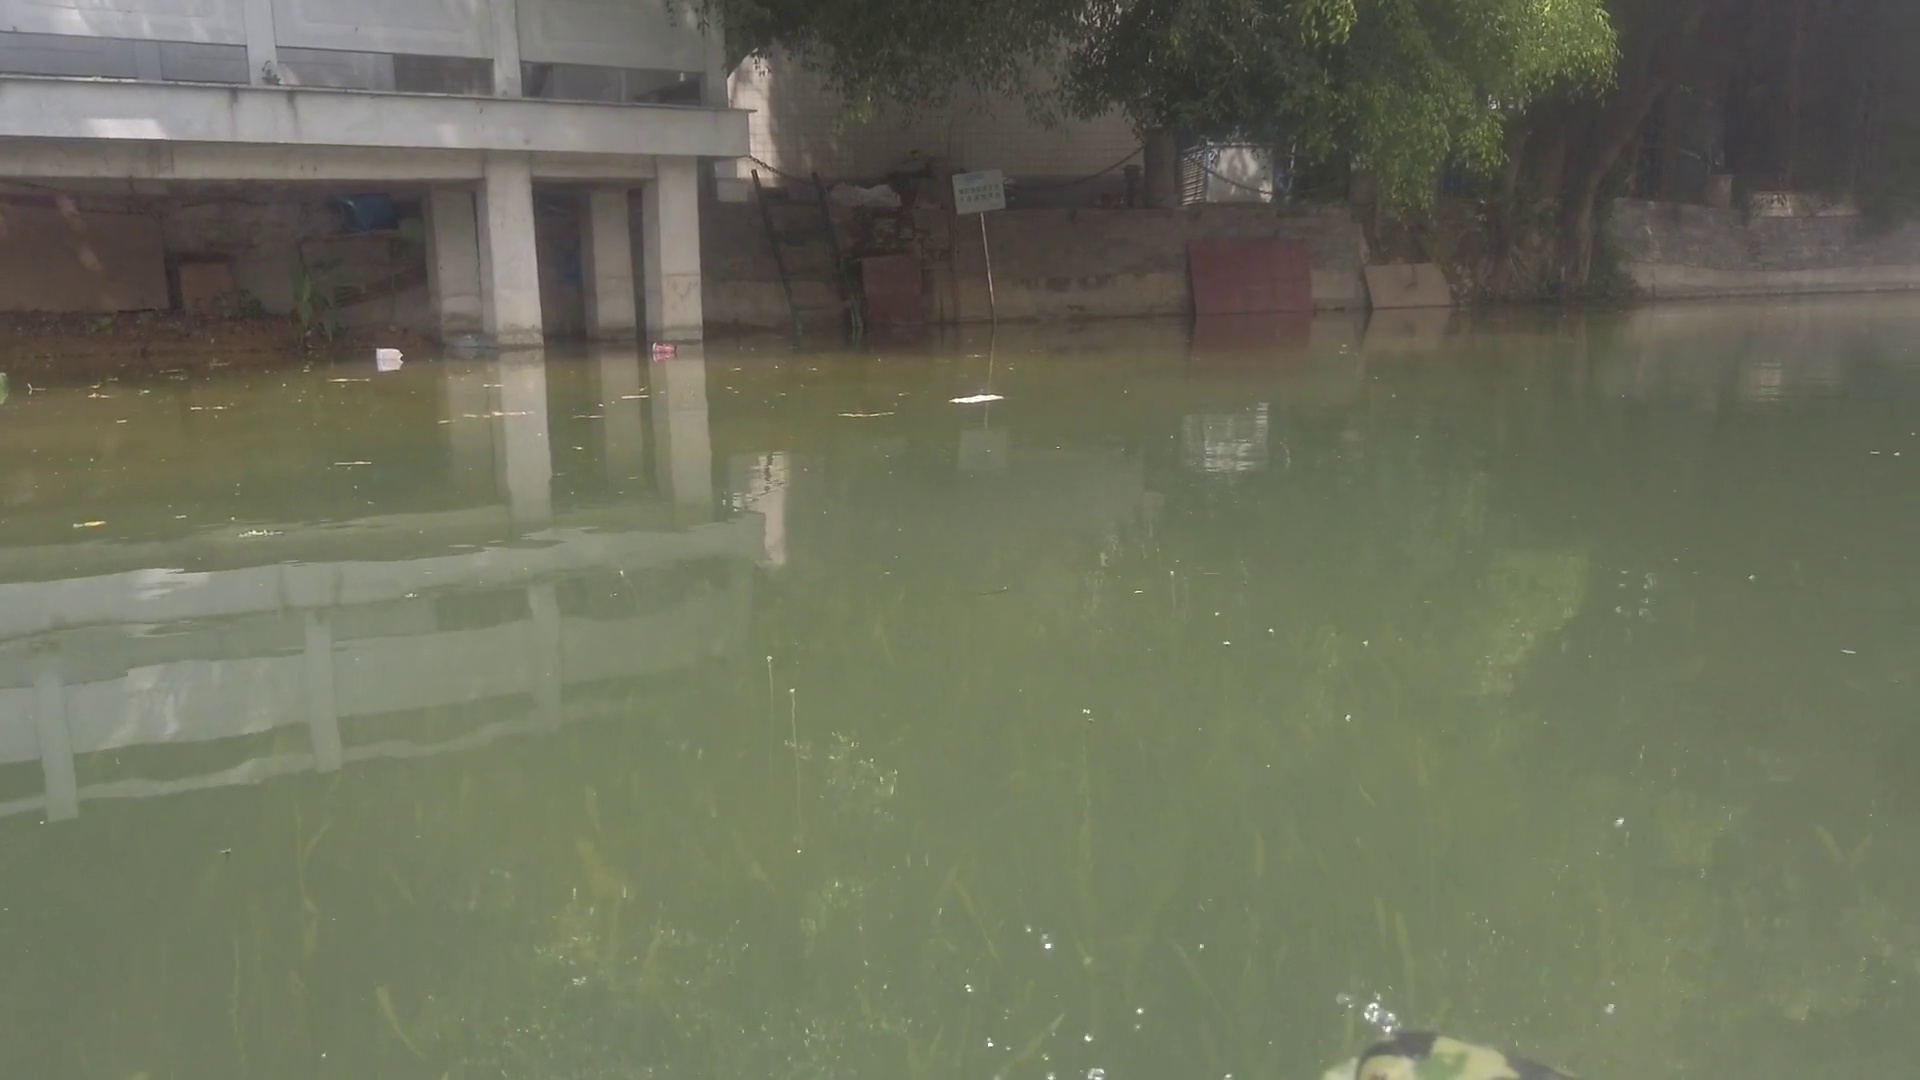bottle: (647, 338, 678, 356)
carton: (373, 343, 410, 367)
paper: (951, 384, 1017, 406)
